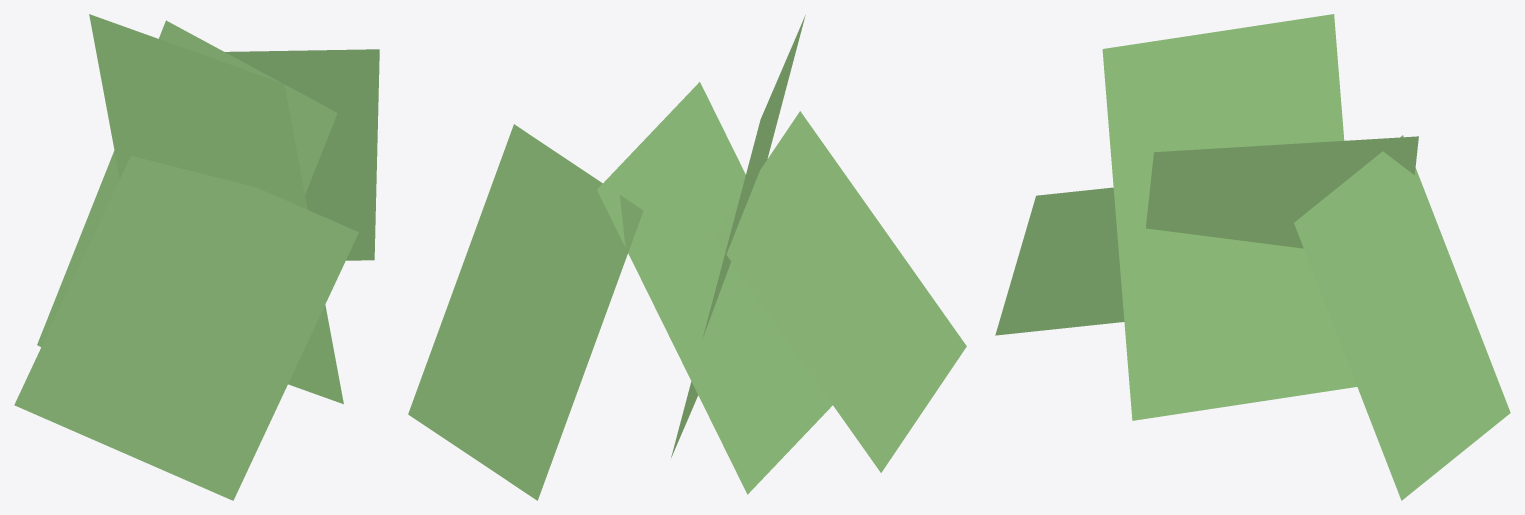
Rendered from SM_GrassClump_LOD2.fbx.
The picture shows the model from 3 angles, left to right: view 1: azimuth 30°, elevation 25°; view 2: azimuth 150°, elevation 25°; view 3: azimuth 270°, elevation 25°; orthographic projection. The views are drawn at different scales.
Parts seen in each view (by area): view 1: SM_GrassClump_LOD2; view 2: SM_GrassClump_LOD2; view 3: SM_GrassClump_LOD2.
Part boxes in pixels (bbox=[...]): SM_GrassClump_LOD2: bbox=[14, 14, 379, 500]; SM_GrassClump_LOD2: bbox=[408, 15, 966, 500]; SM_GrassClump_LOD2: bbox=[995, 14, 1510, 500].
Size of the model in its own units: 38.95 by 31.11 by 43.18.
